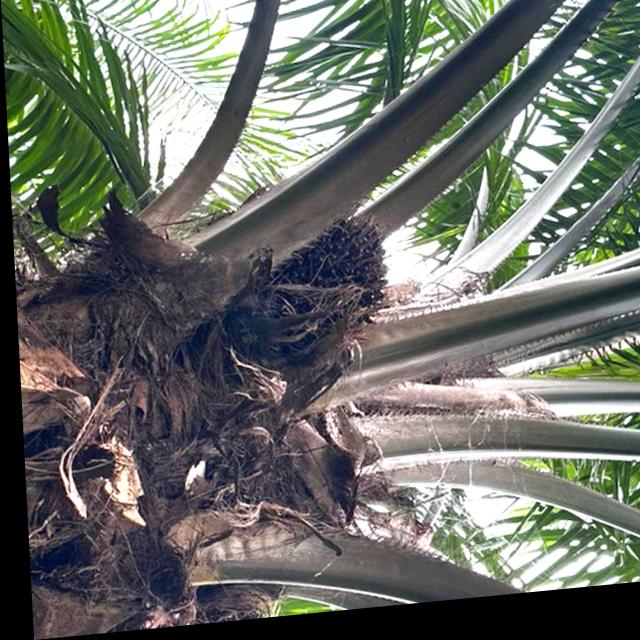unripe: (233, 194, 403, 367)
